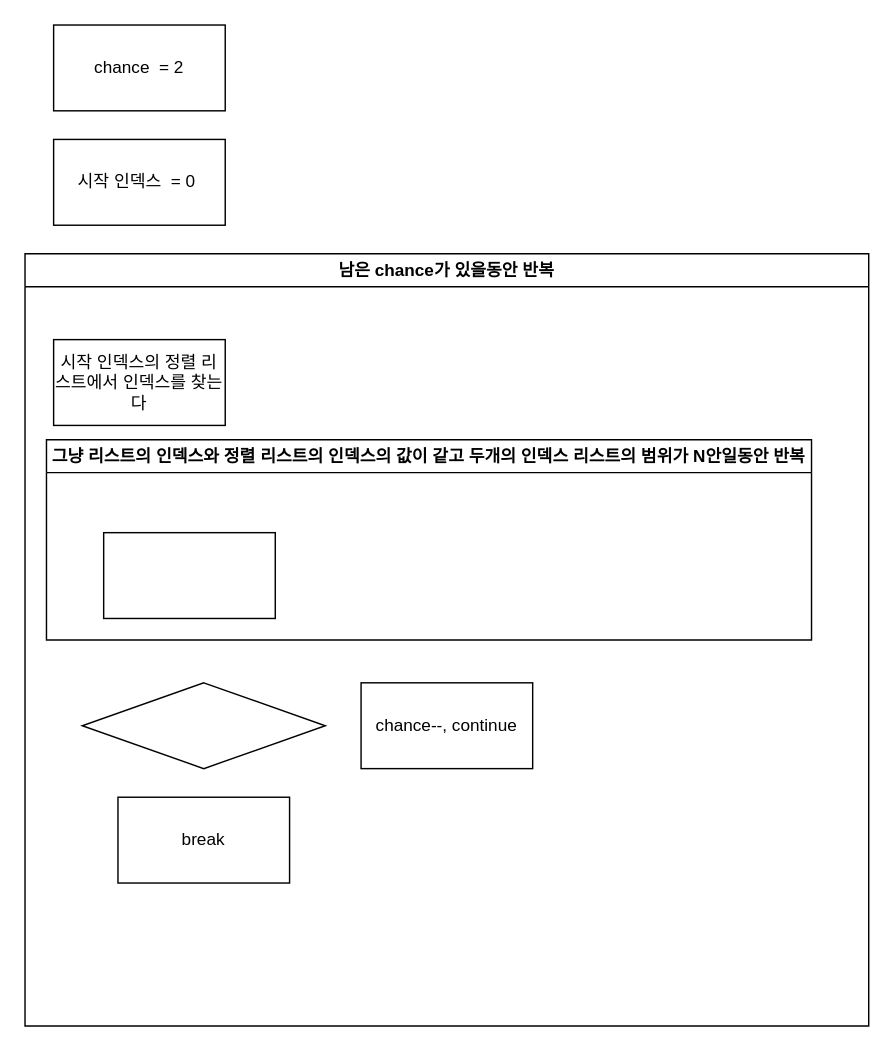
Image size: 894x1051. Some labels were removed from this diagram. Each missing label, with the box of its shape:
그냥 인덱스가 N - 1인가?: (81, 681, 325, 769)
두개의 인덱스 ++: (102, 531, 275, 618)
